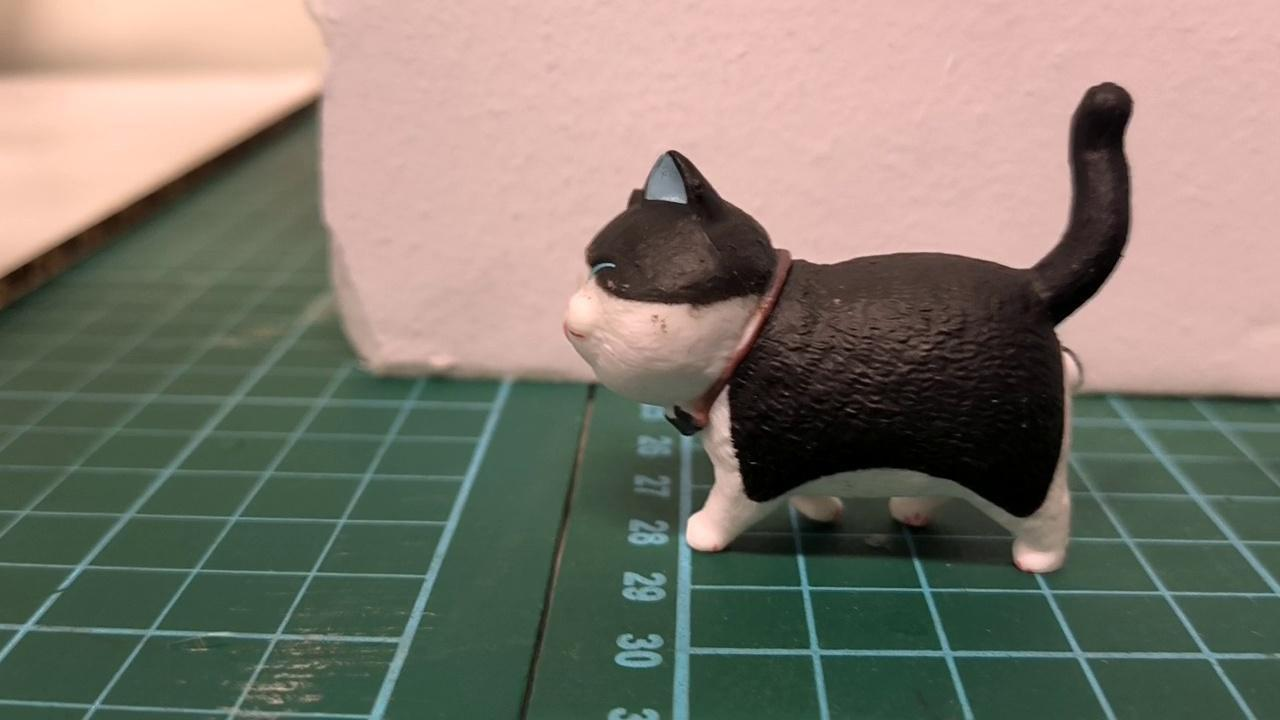pet: (552, 70, 1151, 585)
